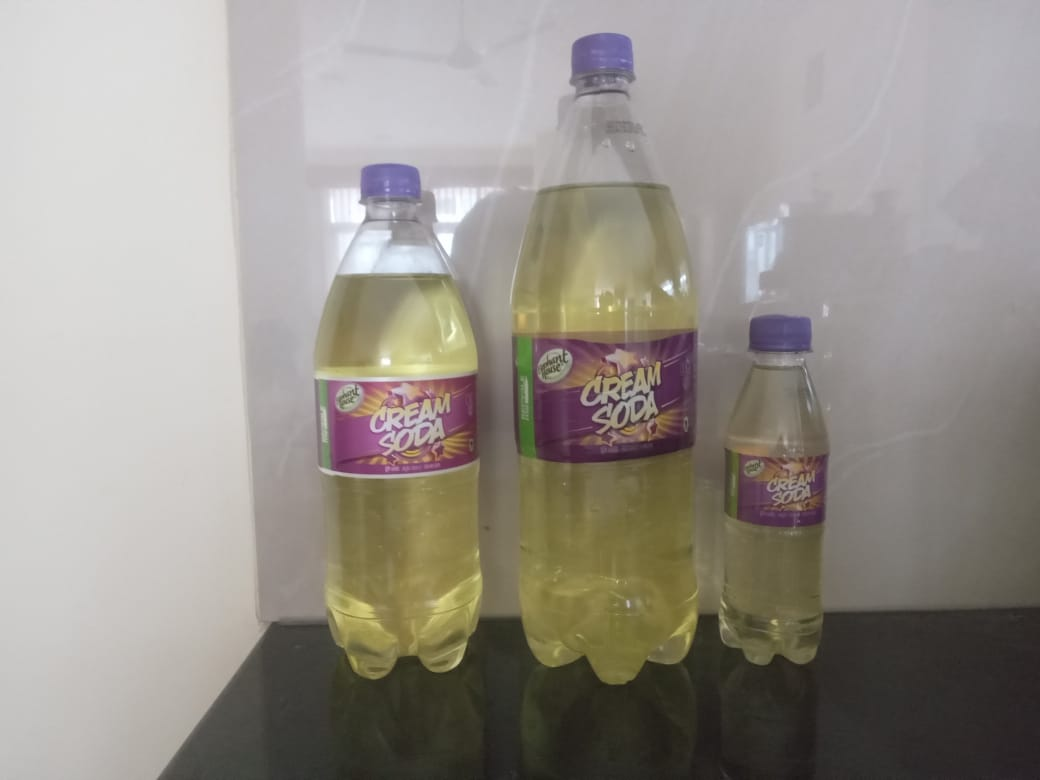L: (500, 32, 705, 693)
M: (311, 162, 492, 684)
Xs: (718, 314, 834, 675)
